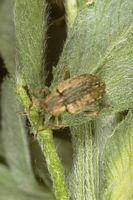weevils: (6, 54, 126, 145)
